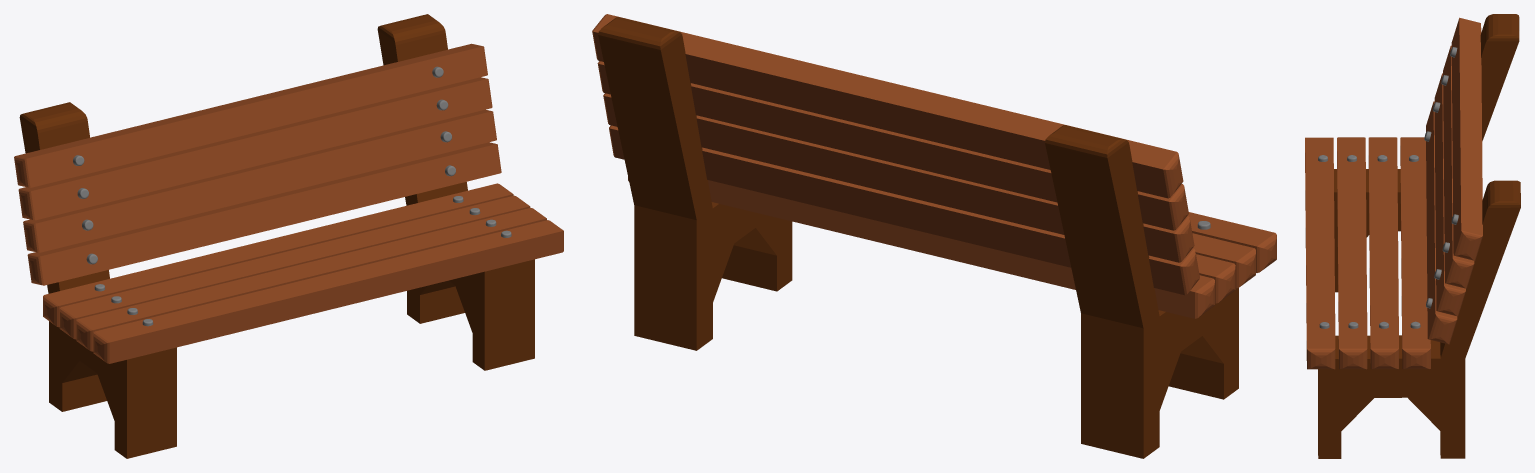
Rendered from klupa.fbx.
3 views of the same model, side by side, from view 1: azimuth 30°, elevation 25°; view 2: azimuth 150°, elevation 25°; view 3: azimuth 270°, elevation 25° (orthographic). The views are drawn at different scales.
Visible parts, largest first — view 1: klupa; view 2: klupa; view 3: klupa.
Boxes of the visible parts, left/top/right/bottom form: klupa: left=14, top=14, right=563, bottom=458; klupa: left=592, top=14, right=1276, bottom=458; klupa: left=1305, top=14, right=1520, bottom=458.
Size of the model in its own units: 172 by 95.05 by 72.63.
